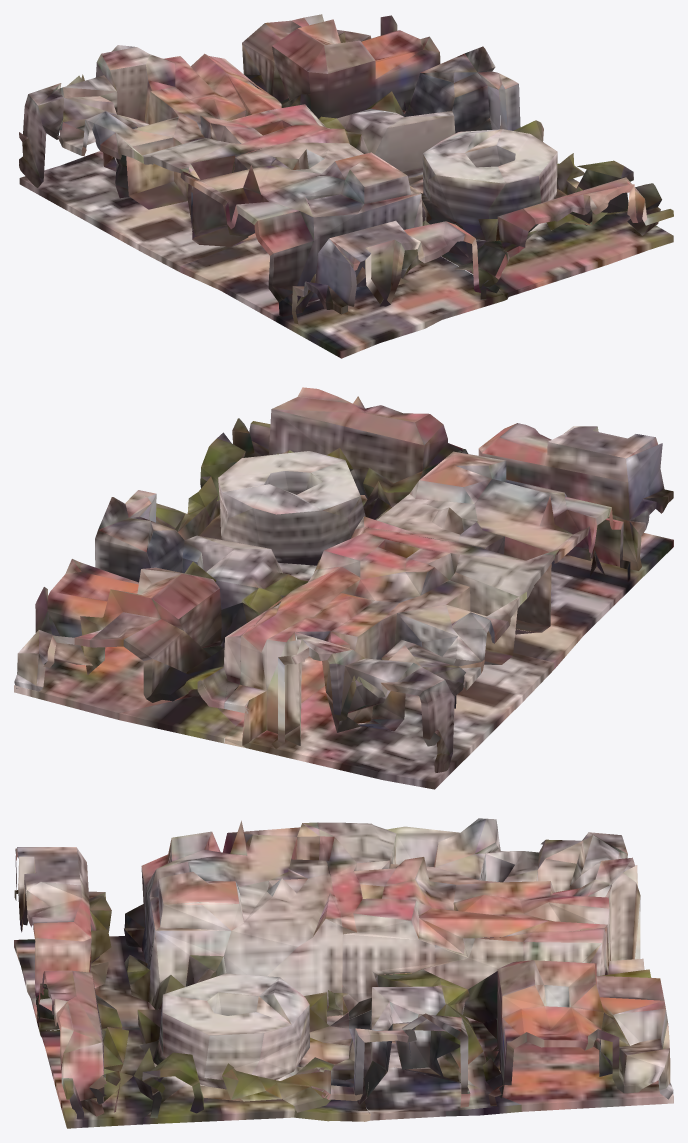
3 renders of one model, top to bottom at view 1: azimuth 30°, elevation 25°; view 2: azimuth 150°, elevation 25°; view 3: azimuth 270°, elevation 25°, orthographic. The views are drawn at different scales.
Parts seen in each view (by area): view 1: Mesh_0; view 2: Mesh_0; view 3: Mesh_0.
Part boxes in pixels (<box>): Mesh_0: <box>19,14,673,358</box>; Mesh_0: <box>14,387,673,789</box>; Mesh_0: <box>14,818,673,1128</box>.
Size of the model in its own units: 135 by 39.57 by 165.
Materials: 1 (1 with a texture image).
